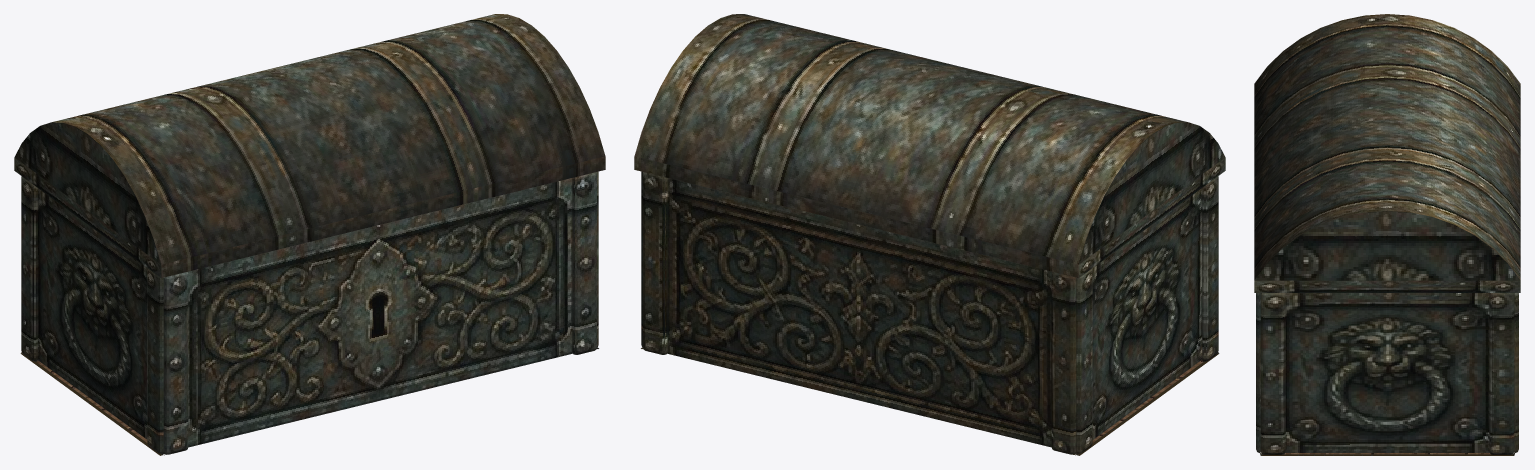
File: chest_domed_bronze.glb
3 renders of one model, left to right at view 1: azimuth 30°, elevation 25°; view 2: azimuth 150°, elevation 25°; view 3: azimuth 270°, elevation 25°, orthographic. The views are drawn at different scales.
Parts seen in each view (by area): view 1: body, lid; view 2: body, lid; view 3: lid, body.
Boxes of the visible parts, x1,y1,x2,y2 form: body: (20,171,598,455); lid: (14,14,605,278); body: (641,171,1219,455); lid: (634,14,1225,278); lid: (1254,14,1520,292); body: (1256,293,1518,455).
Size of the model in its own units: 1.03 by 0.6 by 0.588.
1 material, 1 textured.
